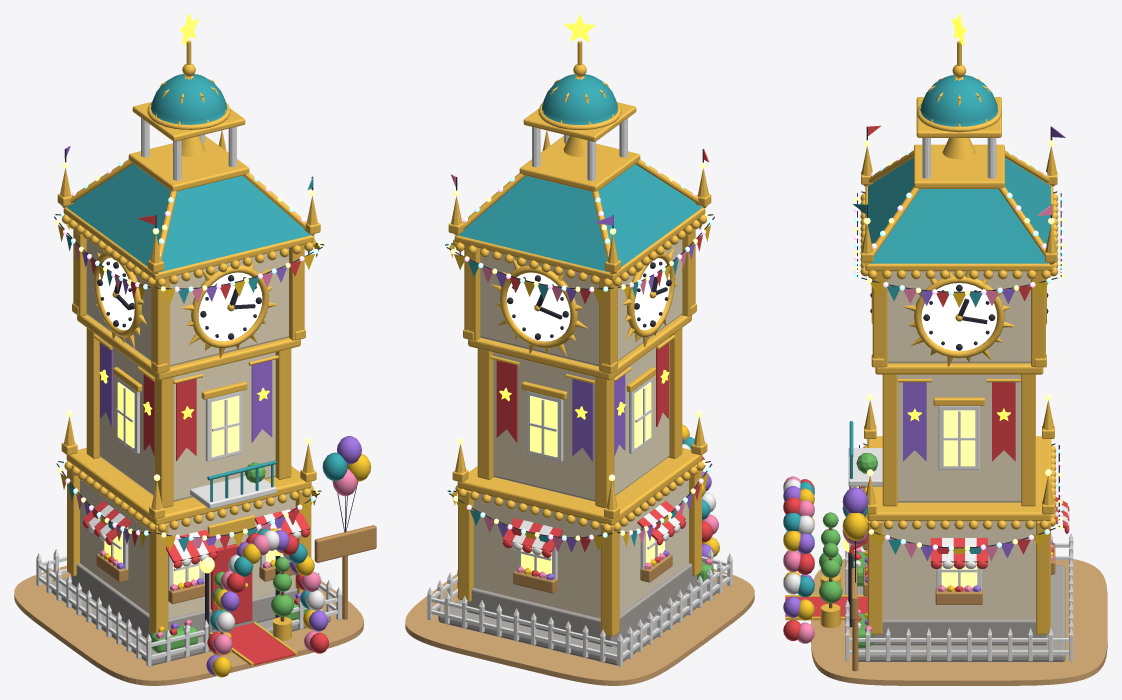
Rendered from clock-tower-stage-6.887c3638.glb.
3 renders of one model, left to right at view 1: azimuth 30°, elevation 25°; view 2: azimuth 150°, elevation 25°; view 3: azimuth 270°, elevation 25°, orthographic.
Parts seen in each view (by area): view 1: ClockTower_Stage6__T_gold, ClockTower_Stage6__T_cream, ClockTower_Stage6__T_teal, ClockTower_Stage6__T_white, ClockTower_Stage6__T_red, ClockTower_Stage6__T_dirt, ClockTower_Stage6__T_purple, ClockTower_Stage6__T_stone, ClockTower_Stage6__G_clockface, ClockTower_Stage6__G_window, ClockTower_Stage6__T_wood, ClockTower_Stage6__T_yellow (+6 smaller); view 2: ClockTower_Stage6__T_gold, ClockTower_Stage6__T_cream, ClockTower_Stage6__T_teal, ClockTower_Stage6__T_white, ClockTower_Stage6__T_dirt, ClockTower_Stage6__T_stone, ClockTower_Stage6__T_red, ClockTower_Stage6__G_clockface, ClockTower_Stage6__T_purple, ClockTower_Stage6__G_window, ClockTower_Stage6__T_dark, ClockTower_Stage6__T_yellow (+6 smaller); view 3: ClockTower_Stage6__T_gold, ClockTower_Stage6__T_cream, ClockTower_Stage6__T_teal, ClockTower_Stage6__T_dirt, ClockTower_Stage6__T_white, ClockTower_Stage6__T_stone, ClockTower_Stage6__T_red, ClockTower_Stage6__T_purple, ClockTower_Stage6__G_clockface, ClockTower_Stage6__T_leaf, ClockTower_Stage6__G_window, ClockTower_Stage6__T_yellow (+6 smaller).
Part boxes in pixels (x1=…): ClockTower_Stage6__T_gold: x1=57, y1=40, x2=320, y2=665; ClockTower_Stage6__T_cream: x1=80, y1=235, x2=295, y2=618; ClockTower_Stage6__T_teal: x1=66, y1=74, x2=347, y2=631; ClockTower_Stage6__T_white: x1=36, y1=118, x2=341, y2=666; ClockTower_Stage6__T_red: x1=83, y1=215, x2=328, y2=665; ClockTower_Stage6__T_dirt: x1=14, y1=565, x2=363, y2=685; ClockTower_Stage6__T_purple: x1=64, y1=146, x2=361, y2=675; ClockTower_Stage6__T_stone: x1=51, y1=563, x2=330, y2=665; ClockTower_Stage6__G_clockface: x1=99, y1=258, x2=262, y2=341; ClockTower_Stage6__G_window: x1=104, y1=382, x2=291, y2=585; ClockTower_Stage6__T_wood: x1=96, y1=525, x2=376, y2=619; ClockTower_Stage6__T_yellow: x1=58, y1=219, x2=371, y2=677; ClockTower_Stage6__T_gold: x1=448, y1=41, x2=711, y2=636; ClockTower_Stage6__T_cream: x1=473, y1=235, x2=688, y2=618; ClockTower_Stage6__T_teal: x1=458, y1=74, x2=710, y2=546; ClockTower_Stage6__T_white: x1=427, y1=118, x2=732, y2=666; ClockTower_Stage6__T_dirt: x1=405, y1=569, x2=754, y2=685; ClockTower_Stage6__T_stone: x1=438, y1=563, x2=717, y2=665; ClockTower_Stage6__T_red: x1=459, y1=149, x2=713, y2=576; ClockTower_Stage6__G_clockface: x1=506, y1=258, x2=669, y2=341; ClockTower_Stage6__T_purple: x1=496, y1=215, x2=713, y2=580; ClockTower_Stage6__G_window: x1=521, y1=382, x2=664, y2=574; ClockTower_Stage6__T_dark: x1=445, y1=149, x2=714, y2=538; ClockTower_Stage6__T_yellow: x1=449, y1=219, x2=719, y2=574; ClockTower_Stage6__T_gold: x1=785, y1=41, x2=1058, y2=634; ClockTower_Stage6__T_cream: x1=882, y1=271, x2=1035, y2=619; ClockTower_Stage6__T_teal: x1=783, y1=75, x2=1050, y2=597; ClockTower_Stage6__T_dirt: x1=811, y1=559, x2=1107, y2=685; ClockTower_Stage6__T_white: x1=783, y1=138, x2=1073, y2=661; ClockTower_Stage6__T_stone: x1=857, y1=565, x2=1065, y2=661; ClockTower_Stage6__T_red: x1=783, y1=125, x2=1069, y2=640; ClockTower_Stage6__T_purple: x1=783, y1=127, x2=1065, y2=625; ClockTower_Stage6__G_clockface: x1=921, y1=283, x2=996, y2=351; ClockTower_Stage6__T_leaf: x1=819, y1=453, x2=982, y2=648; ClockTower_Stage6__G_window: x1=842, y1=410, x2=977, y2=588; ClockTower_Stage6__T_yellow: x1=783, y1=282, x2=1053, y2=620.
Bounding box in the file's own units: 4.98 × 10.86 × 5.25.
